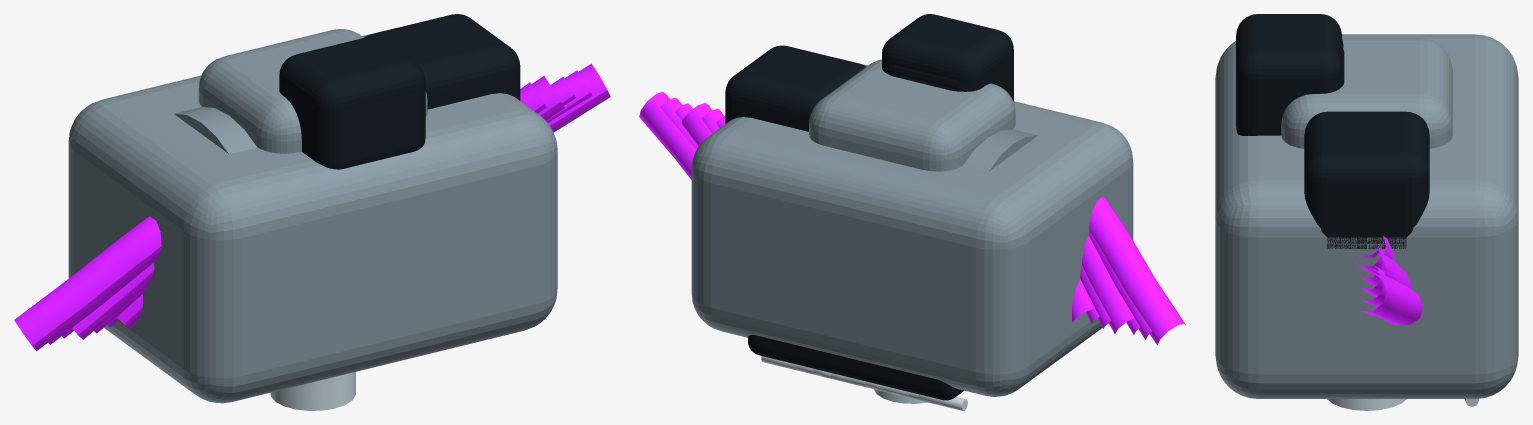
File: electrical_09.glb
3 renders of one model, left to right at view 1: azimuth 30°, elevation 25°; view 2: azimuth 150°, elevation 25°; view 3: azimuth 270°, elevation 25°, orthographic. The views are drawn at different scales.
Visible parts, largest first — view 1: asset_mesh__electrical_0332__reference_body, asset_mesh__electrical_0358__electrical_connector, asset_mesh__electrical_0350__sensor_body, asset_mesh__electrical_0350__connector, asset_mesh__electrical_0377__current_path, asset_mesh__electrical_0383__current_path, asset_mesh__electrical_0350__sensor_probe, asset_mesh__electrical_0358__electromagnetic_housing, asset_mesh__electrical_0376__current_path, asset_mesh__electrical_0328__current_path; view 2: asset_mesh__electrical_0332__reference_body, asset_mesh__electrical_0350__sensor_body, asset_mesh__electrical_0350__connector, asset_mesh__electrical_0358__electrical_connector, asset_mesh__electrical_0377__current_path, asset_mesh__electrical_0329__connector_bank, asset_mesh__electrical_0383__current_path, asset_mesh__electrical_0358__electromagnetic_housing, asset_mesh__electrical_0376__current_path, asset_mesh__electrical_0328__current_path, asset_mesh__electrical_0420__electrical_connector, asset_mesh__electrical_0371__current_path; view 3: asset_mesh__electrical_0332__reference_body, asset_mesh__electrical_0350__connector, asset_mesh__electrical_0350__sensor_body, asset_mesh__electrical_0358__electrical_connector, asset_mesh__electrical_0377__current_path, asset_mesh__electrical_0350__sensor_probe, asset_mesh__electrical_0383__current_path, asset_mesh__electrical_0376__current_path.
Part boxes in pixels (x1=…): asset_mesh__electrical_0332__reference_body: x1=68, y1=28, x2=557, y2=403; asset_mesh__electrical_0358__electrical_connector: x1=279, y1=36, x2=425, y2=169; asset_mesh__electrical_0350__sensor_body: x1=198, y1=29, x2=427, y2=153; asset_mesh__electrical_0350__connector: x1=364, y1=14, x2=520, y2=109; asset_mesh__electrical_0377__current_path: x1=14, y1=63, x2=610, y2=351; asset_mesh__electrical_0383__current_path: x1=72, y1=76, x2=564, y2=339; asset_mesh__electrical_0350__sensor_probe: x1=270, y1=372, x2=355, y2=410; asset_mesh__electrical_0358__electromagnetic_housing: x1=174, y1=107, x2=257, y2=154; asset_mesh__electrical_0376__current_path: x1=48, y1=70, x2=592, y2=344; asset_mesh__electrical_0328__current_path: x1=94, y1=82, x2=546, y2=333; asset_mesh__electrical_0332__reference_body: x1=691, y1=58, x2=1133, y2=396; asset_mesh__electrical_0350__sensor_body: x1=809, y1=59, x2=1015, y2=171; asset_mesh__electrical_0350__connector: x1=725, y1=45, x2=866, y2=131; asset_mesh__electrical_0358__electrical_connector: x1=882, y1=14, x2=1013, y2=101; asset_mesh__electrical_0377__current_path: x1=639, y1=91, x2=1185, y2=345; asset_mesh__electrical_0329__connector_bank: x1=748, y1=335, x2=963, y2=400; asset_mesh__electrical_0383__current_path: x1=681, y1=103, x2=1134, y2=333; asset_mesh__electrical_0358__electromagnetic_housing: x1=963, y1=129, x2=1037, y2=171; asset_mesh__electrical_0376__current_path: x1=660, y1=97, x2=1152, y2=339; asset_mesh__electrical_0328__current_path: x1=701, y1=108, x2=1111, y2=328; asset_mesh__electrical_0420__electrical_connector: x1=885, y1=64, x2=963, y2=91; asset_mesh__electrical_0371__current_path: x1=1072, y1=279, x2=1093, y2=322; asset_mesh__electrical_0332__reference_body: x1=1215, y1=34, x2=1518, y2=398; asset_mesh__electrical_0350__connector: x1=1304, y1=111, x2=1429, y2=248; asset_mesh__electrical_0350__sensor_body: x1=1281, y1=38, x2=1452, y2=148; asset_mesh__electrical_0358__electrical_connector: x1=1236, y1=14, x2=1341, y2=135; asset_mesh__electrical_0377__current_path: x1=1361, y1=273, x2=1422, y2=324; asset_mesh__electrical_0350__sensor_probe: x1=1327, y1=399, x2=1406, y2=410; asset_mesh__electrical_0383__current_path: x1=1361, y1=252, x2=1411, y2=297; asset_mesh__electrical_0376__current_path: x1=1362, y1=269, x2=1412, y2=307.
Bounding box in the file's own units: 1.73 × 1.01 × 0.7728.
